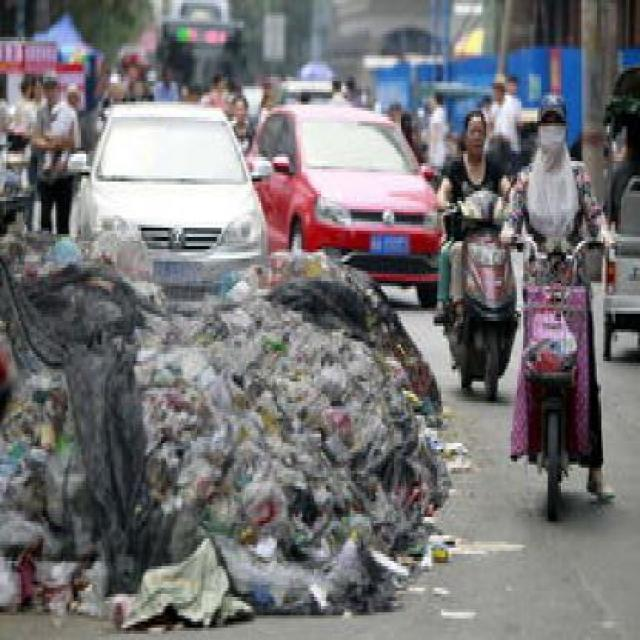garbage: (5, 246, 411, 594)
